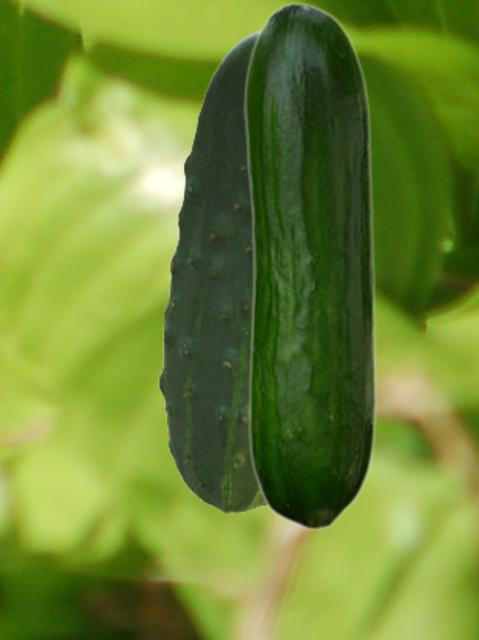cucumber: (243, 1, 377, 530), (158, 29, 267, 513)
